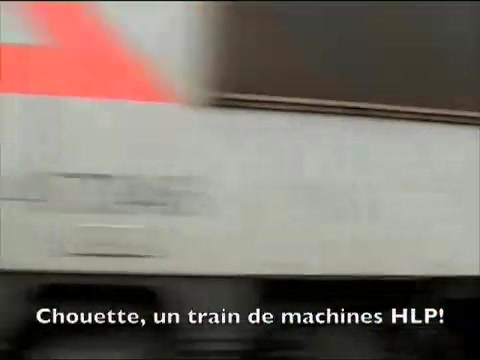train: (1, 1, 480, 288)
